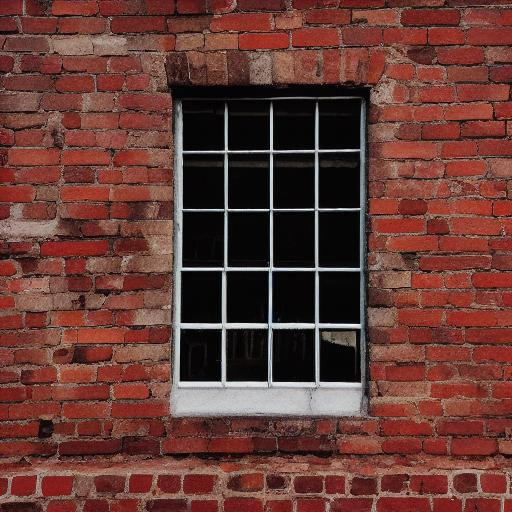Window: (164, 51, 386, 424)
